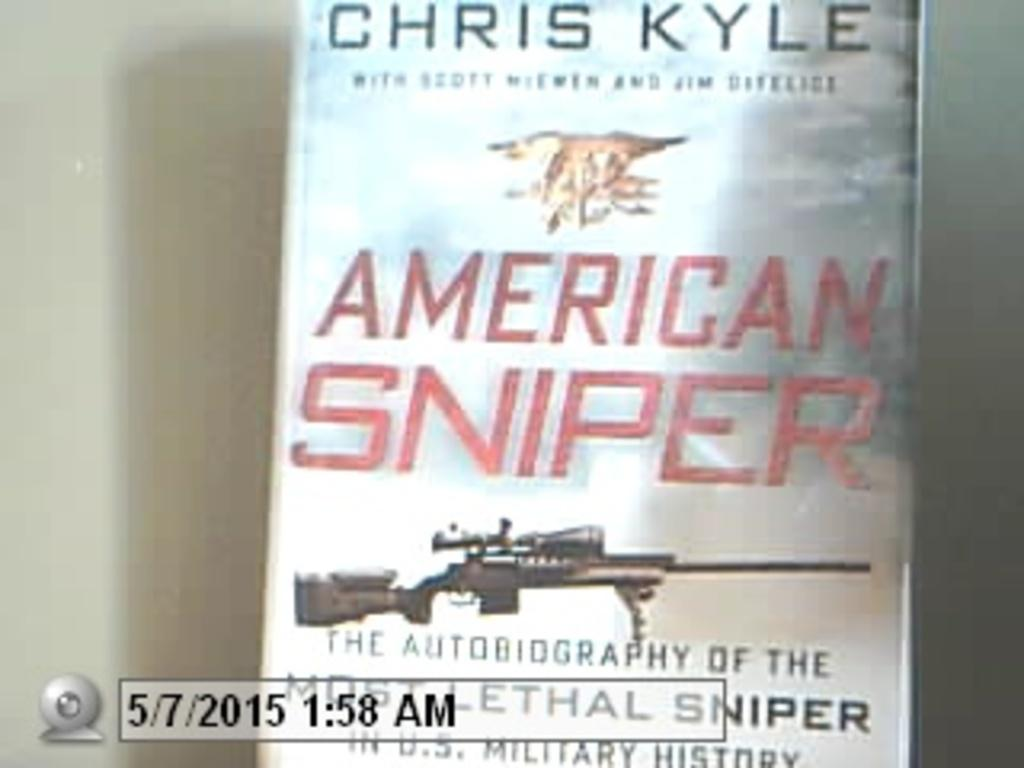Rifle: (259, 499, 787, 659)
